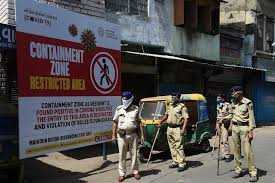mask: (119, 88, 134, 111), (228, 86, 245, 105), (170, 90, 181, 105), (214, 93, 225, 106)
